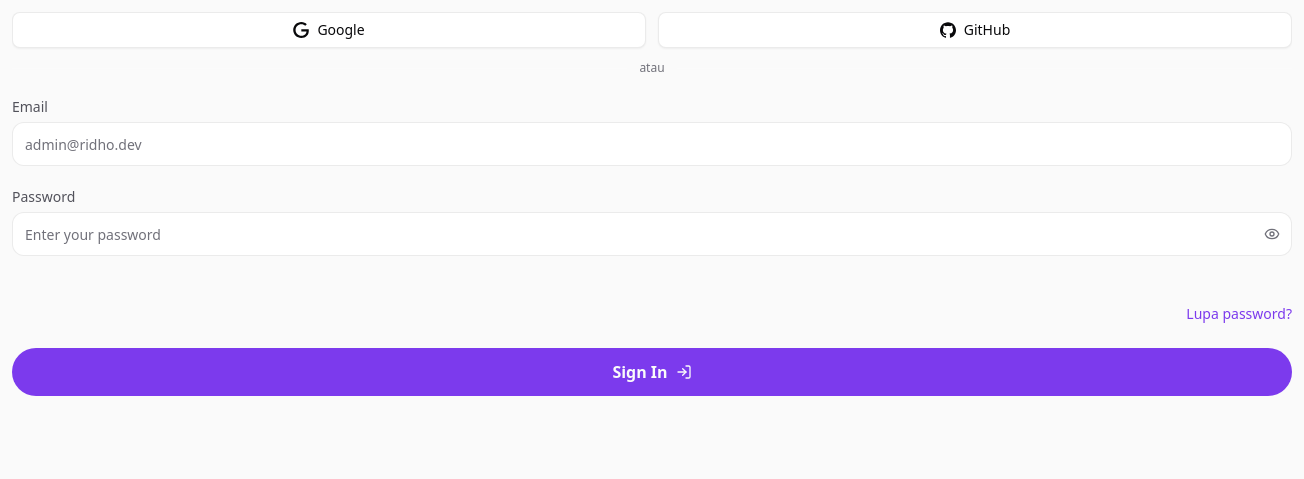
Scenario: AdminLoginForm › toggles the forgot password note
expect the text "fitur lupa password" is not shown: met
Step 1. Click the button "Lupa password?" → (1239, 314), box [1186, 304, 1292, 324]
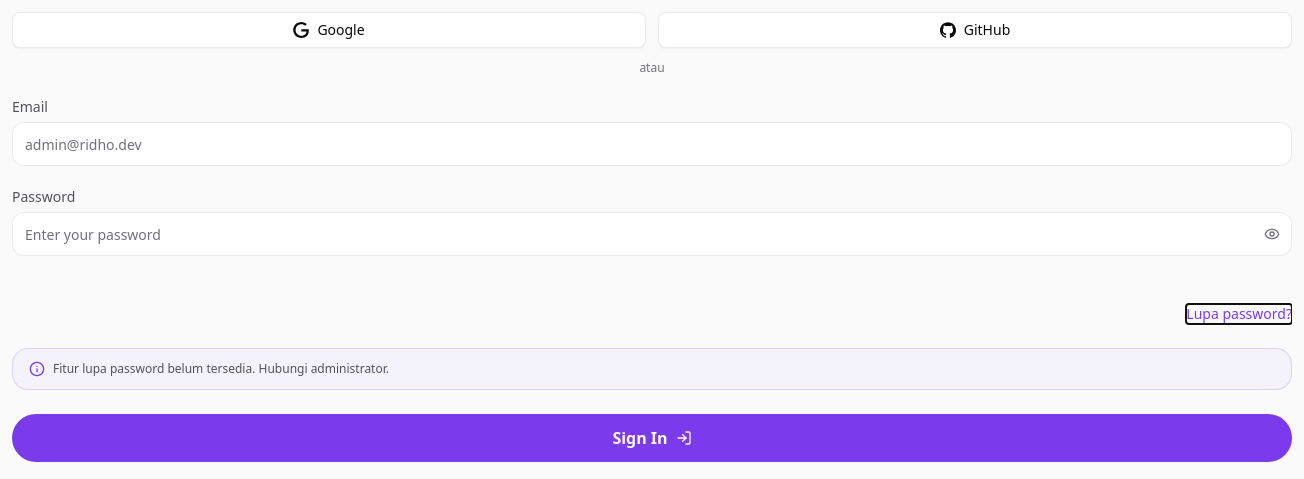
expect the text "Fitur lupa password belum tersedia. Hubungi administrator." is shown: met, box [12, 348, 1292, 390]
